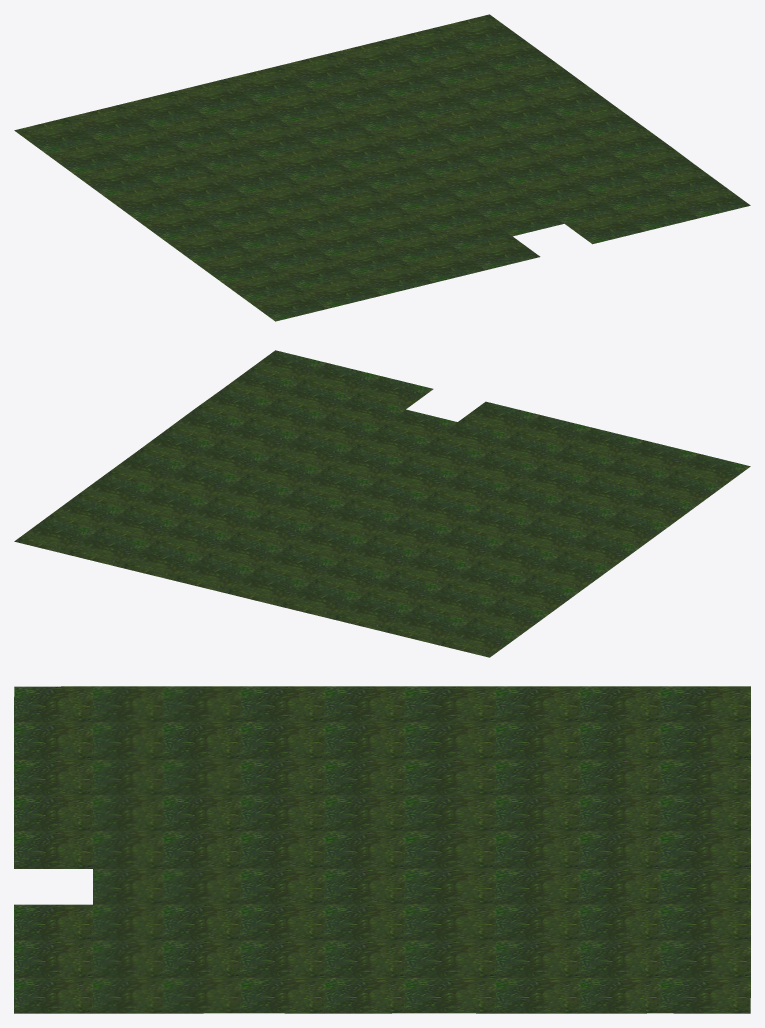
File: cj_luoyang_shuidi01_55_45_3340out.fbx
3 views of the same model, one above another, from view 1: azimuth 30°, elevation 25°; view 2: azimuth 150°, elevation 25°; view 3: azimuth 270°, elevation 25° (orthographic). The views are drawn at different scales.
Parts seen in each view (by area): view 1: cj_luoyang_shuidi01; view 2: cj_luoyang_shuidi01; view 3: cj_luoyang_shuidi01.
Boxes of the visible parts, x1,y1,x2,y2 form: cj_luoyang_shuidi01: (14, 14, 750, 321); cj_luoyang_shuidi01: (14, 350, 750, 657); cj_luoyang_shuidi01: (14, 686, 750, 1013).
Bounding box in the file's own units: 18.76 × 0.0127 × 17.85.
